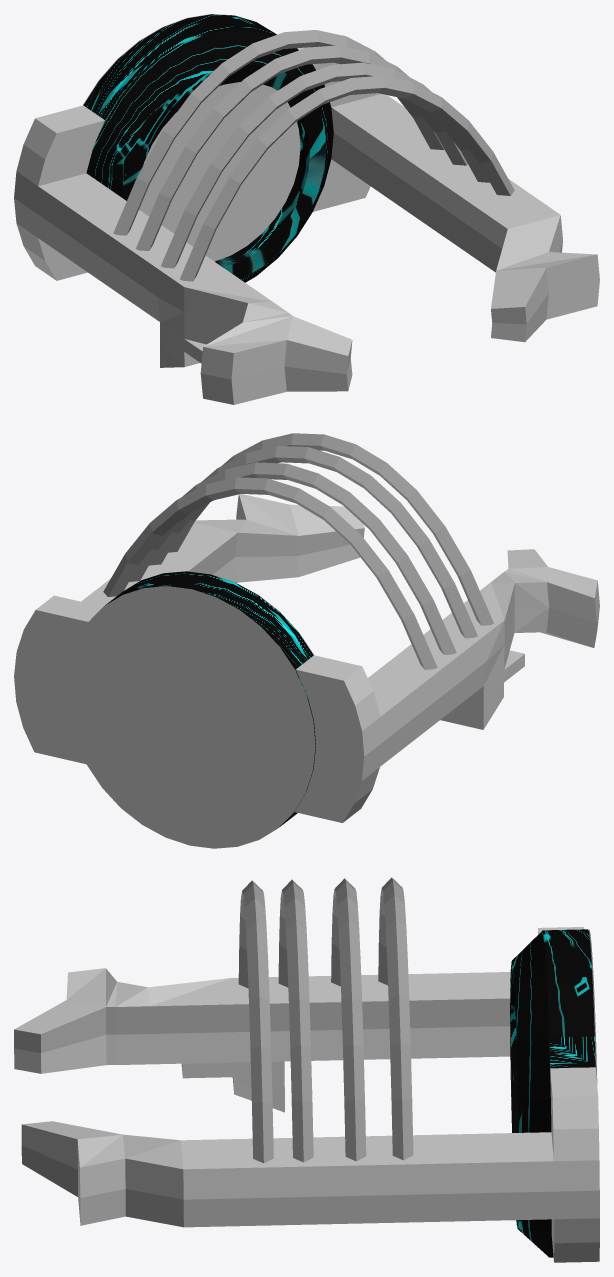
File: Portail.obj
The picture shows the model from 3 angles, top to bottom: view 1: azimuth 30°, elevation 25°; view 2: azimuth 150°, elevation 25°; view 3: azimuth 270°, elevation 25°; orthographic projection. The views are drawn at different scales.
Visible parts, largest first — view 1: Cylinder_Cylinder.001, Cylinder.004, BezierCurve_Mesh, Cylinder.001_Cylinder.000, Cylinder.002; view 2: Cylinder.003, Cylinder_Cylinder.001, BezierCurve_Mesh, Cylinder.004, Cylinder.001_Cylinder.000; view 3: Cylinder.004, Cylinder_Cylinder.001, BezierCurve_Mesh, Cylinder.001_Cylinder.000.
Boxes of the visible parts, box(x1,y1,x2,y2) form: Cylinder_Cylinder.001: box(14, 105, 352, 404); Cylinder.004: box(297, 35, 599, 342); BezierCurve_Mesh: box(113, 30, 514, 281); Cylinder.001_Cylinder.000: box(83, 14, 333, 282); Cylinder.002: box(139, 82, 300, 261); Cylinder.003: box(66, 586, 315, 848); Cylinder_Cylinder.001: box(294, 549, 599, 822); BezierCurve_Mesh: box(103, 433, 493, 669); Cylinder.004: box(14, 494, 364, 763); Cylinder.001_Cylinder.000: box(105, 571, 315, 827); Cylinder.004: box(21, 1067, 599, 1262); Cylinder_Cylinder.001: box(14, 927, 584, 1112); BezierCurve_Mesh: box(238, 877, 413, 1163); Cylinder.001_Cylinder.000: box(510, 929, 595, 1257).
Size of the model in its own units: 48.44 by 36.76 by 55.58.
